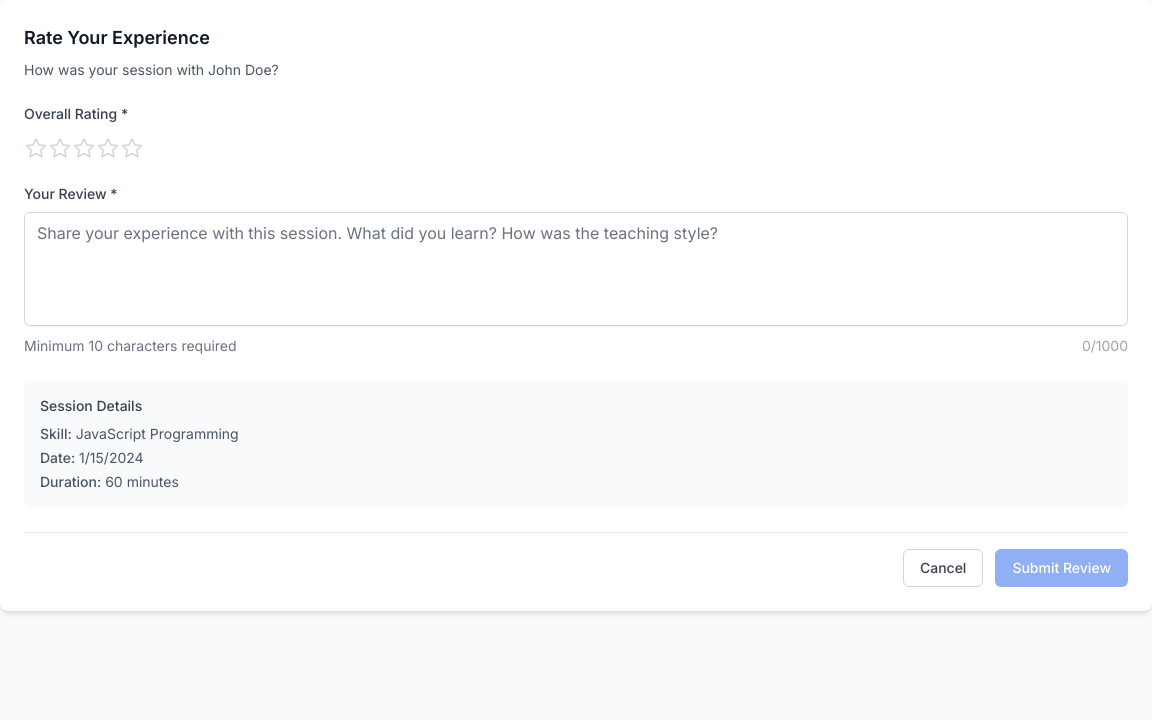
Test case: ReviewForm Component › updates rating description when rating changes
Note: Click 5 stars
Click the button named "5 stars".
click(132, 148)  # box [120,136,144,160]
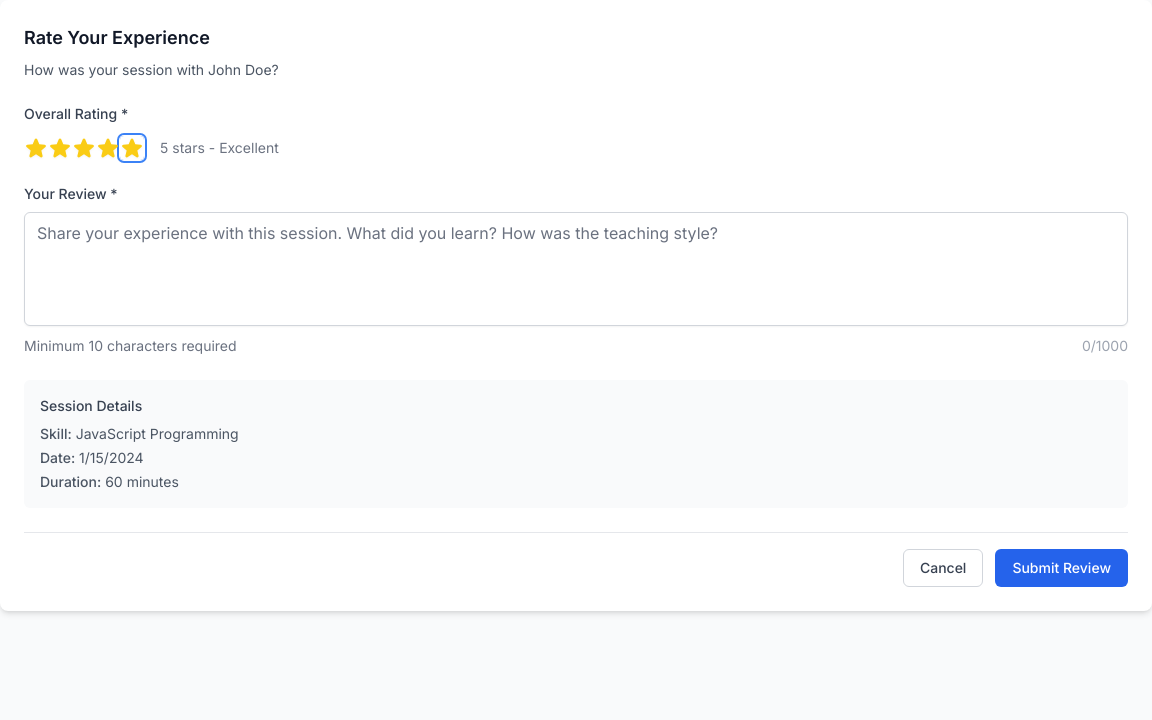
Result: the text "5 stars - Excellent" is shown at [160,138,279,158]
Note: Click 1 star
Click the button named "1 star".
click(36, 148)  # box [24,136,48,160]
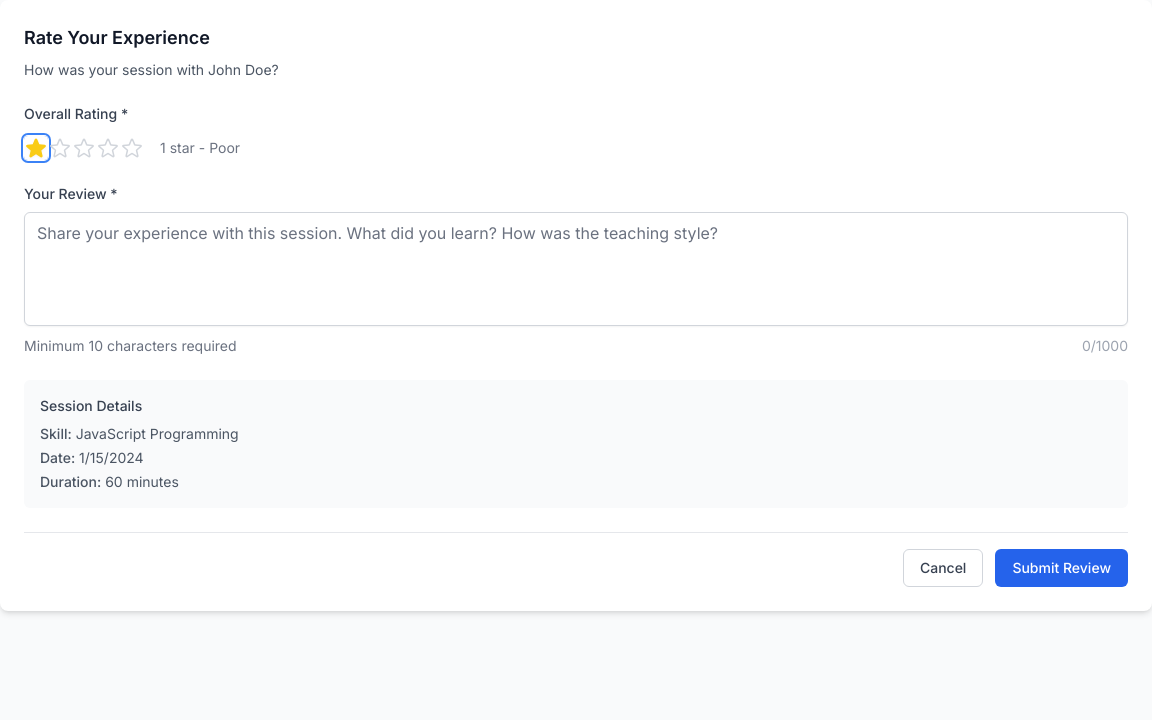
Result: the text "1 star - Poor" is shown at [160,138,240,158]
